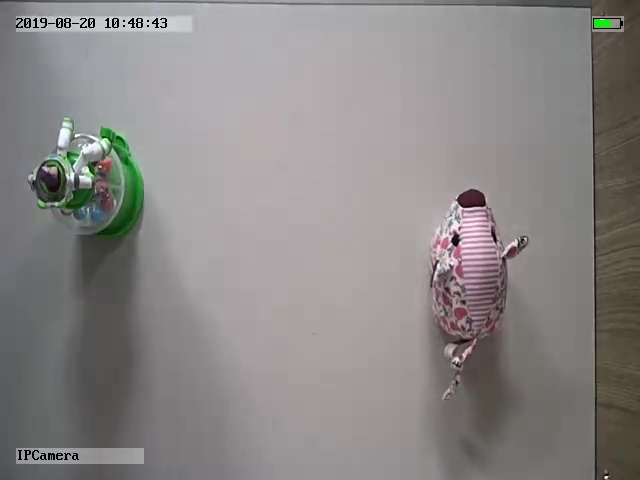buzz: (25, 117, 146, 242)
pig: (426, 186, 529, 402)
